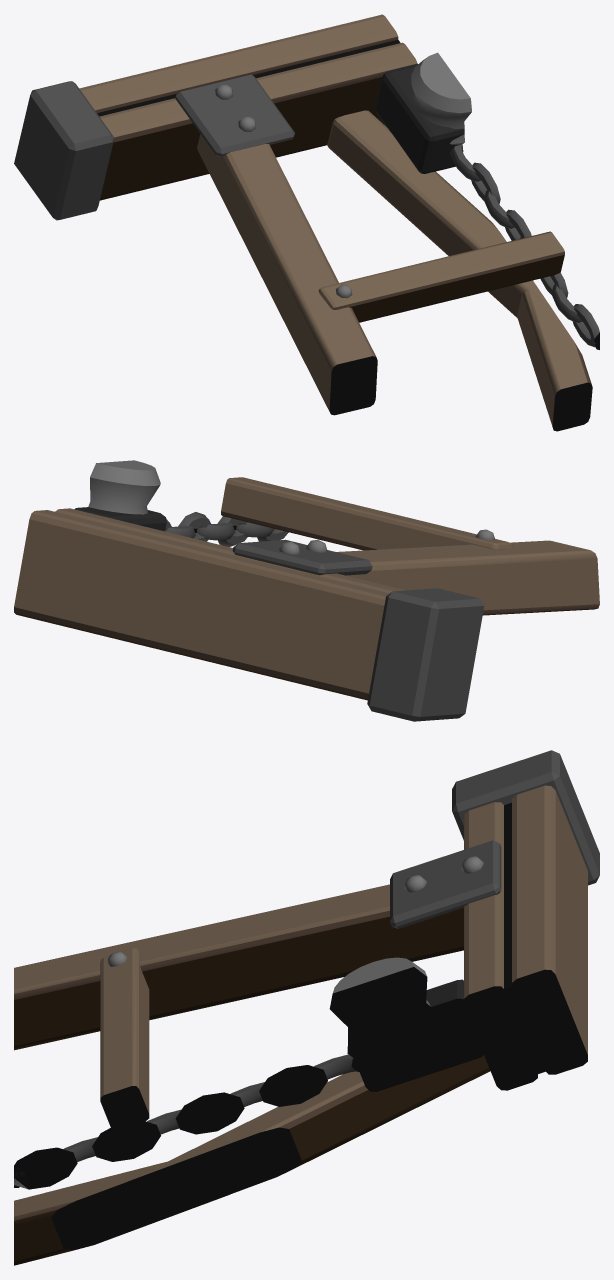
File: gbc_derrick_ul.glb
3 views of the same model, one above another, from view 1: azimuth 30°, elevation 25°; view 2: azimuth 150°, elevation 25°; view 3: azimuth 270°, elevation 25° (orthographic). The views are drawn at different scales.
Visible parts, largest first — view 1: leg0.001, beam.002, leg3.001, crossbar.002, cap.002, beam.003, leg2.001, bracket0.001, pulley.001, wheel.001, beam_seam.001, link7.001 (+1 smaller); view 2: beam.003, leg0.001, cap.002, crossbar.002, wheel.001, bracket0.001, beam.002, pulley.001, link4.001, link3.001, link5.001, link6.001; view 3: leg0.001, beam.003, leg3.001, leg2.001, beam.002, pulley.001, crossbar.002, wheel.001, cap.002, bracket0.001, beam_seam.001, link1.001 (+7 smaller).
Boxes of the visible parts, box(x1,y1,x2,y2) form: leg0.001: box(197, 134, 377, 415); beam.002: box(100, 42, 417, 200); leg3.001: box(327, 110, 553, 317); crossbar.002: box(318, 231, 564, 322); cap.002: box(14, 81, 114, 220); beam.003: box(79, 14, 398, 112); leg2.001: box(517, 290, 592, 431); bracket0.001: box(175, 74, 294, 156); pulley.001: box(375, 64, 464, 173); wheel.001: box(411, 52, 471, 144); beam_seam.001: box(97, 40, 400, 116); link7.001: box(572, 304, 599, 347); beam.003: box(14, 510, 389, 700); leg0.001: box(337, 540, 599, 615); cap.002: box(367, 588, 484, 721); crossbar.002: box(221, 477, 512, 550); wheel.001: box(88, 460, 160, 514); bracket0.001: box(232, 539, 372, 575); beam.002: box(55, 508, 405, 593); pulley.001: box(74, 507, 166, 531); link4.001: box(197, 523, 235, 540); link3.001: box(178, 512, 211, 541); link5.001: box(217, 516, 247, 547); link6.001: box(236, 522, 274, 537); leg0.001: box(14, 884, 463, 1050); beam.003: box(511, 785, 587, 1074); leg3.001: box(105, 1055, 490, 1230); leg2.001: box(14, 1145, 254, 1265); beam.002: box(464, 802, 538, 1090); pulley.001: box(348, 979, 484, 1091); crossbar.002: box(100, 948, 149, 1130); wheel.001: box(329, 957, 444, 1062); cap.002: box(452, 750, 599, 885); bracket0.001: box(390, 840, 501, 928); beam_seam.001: box(502, 802, 546, 1073); link1.001: box(259, 1065, 327, 1106).
Size of the model in its own units: 23.1 by 16.11 by 27.04.
